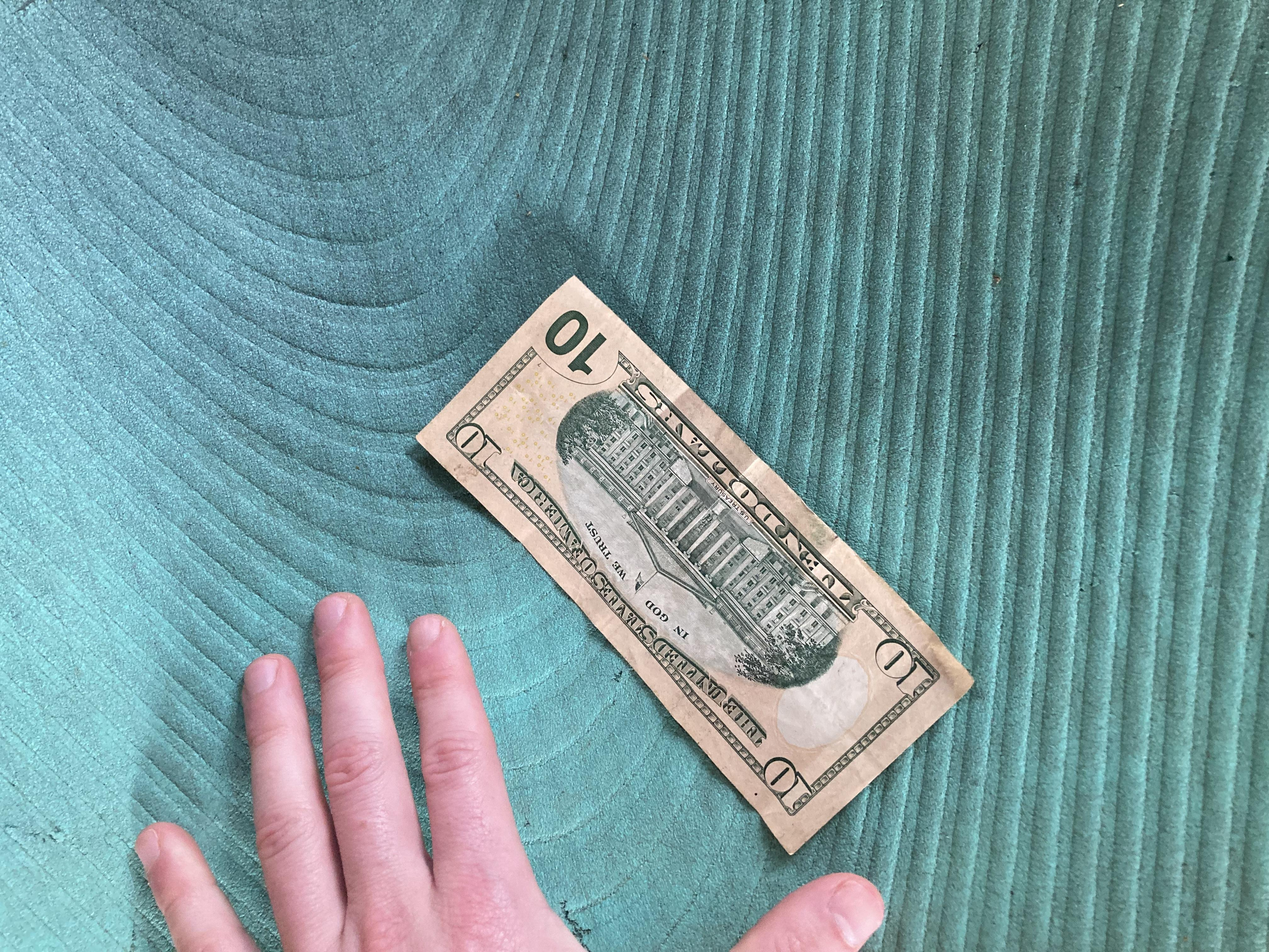ten-back: (127, 311, 905, 734)
